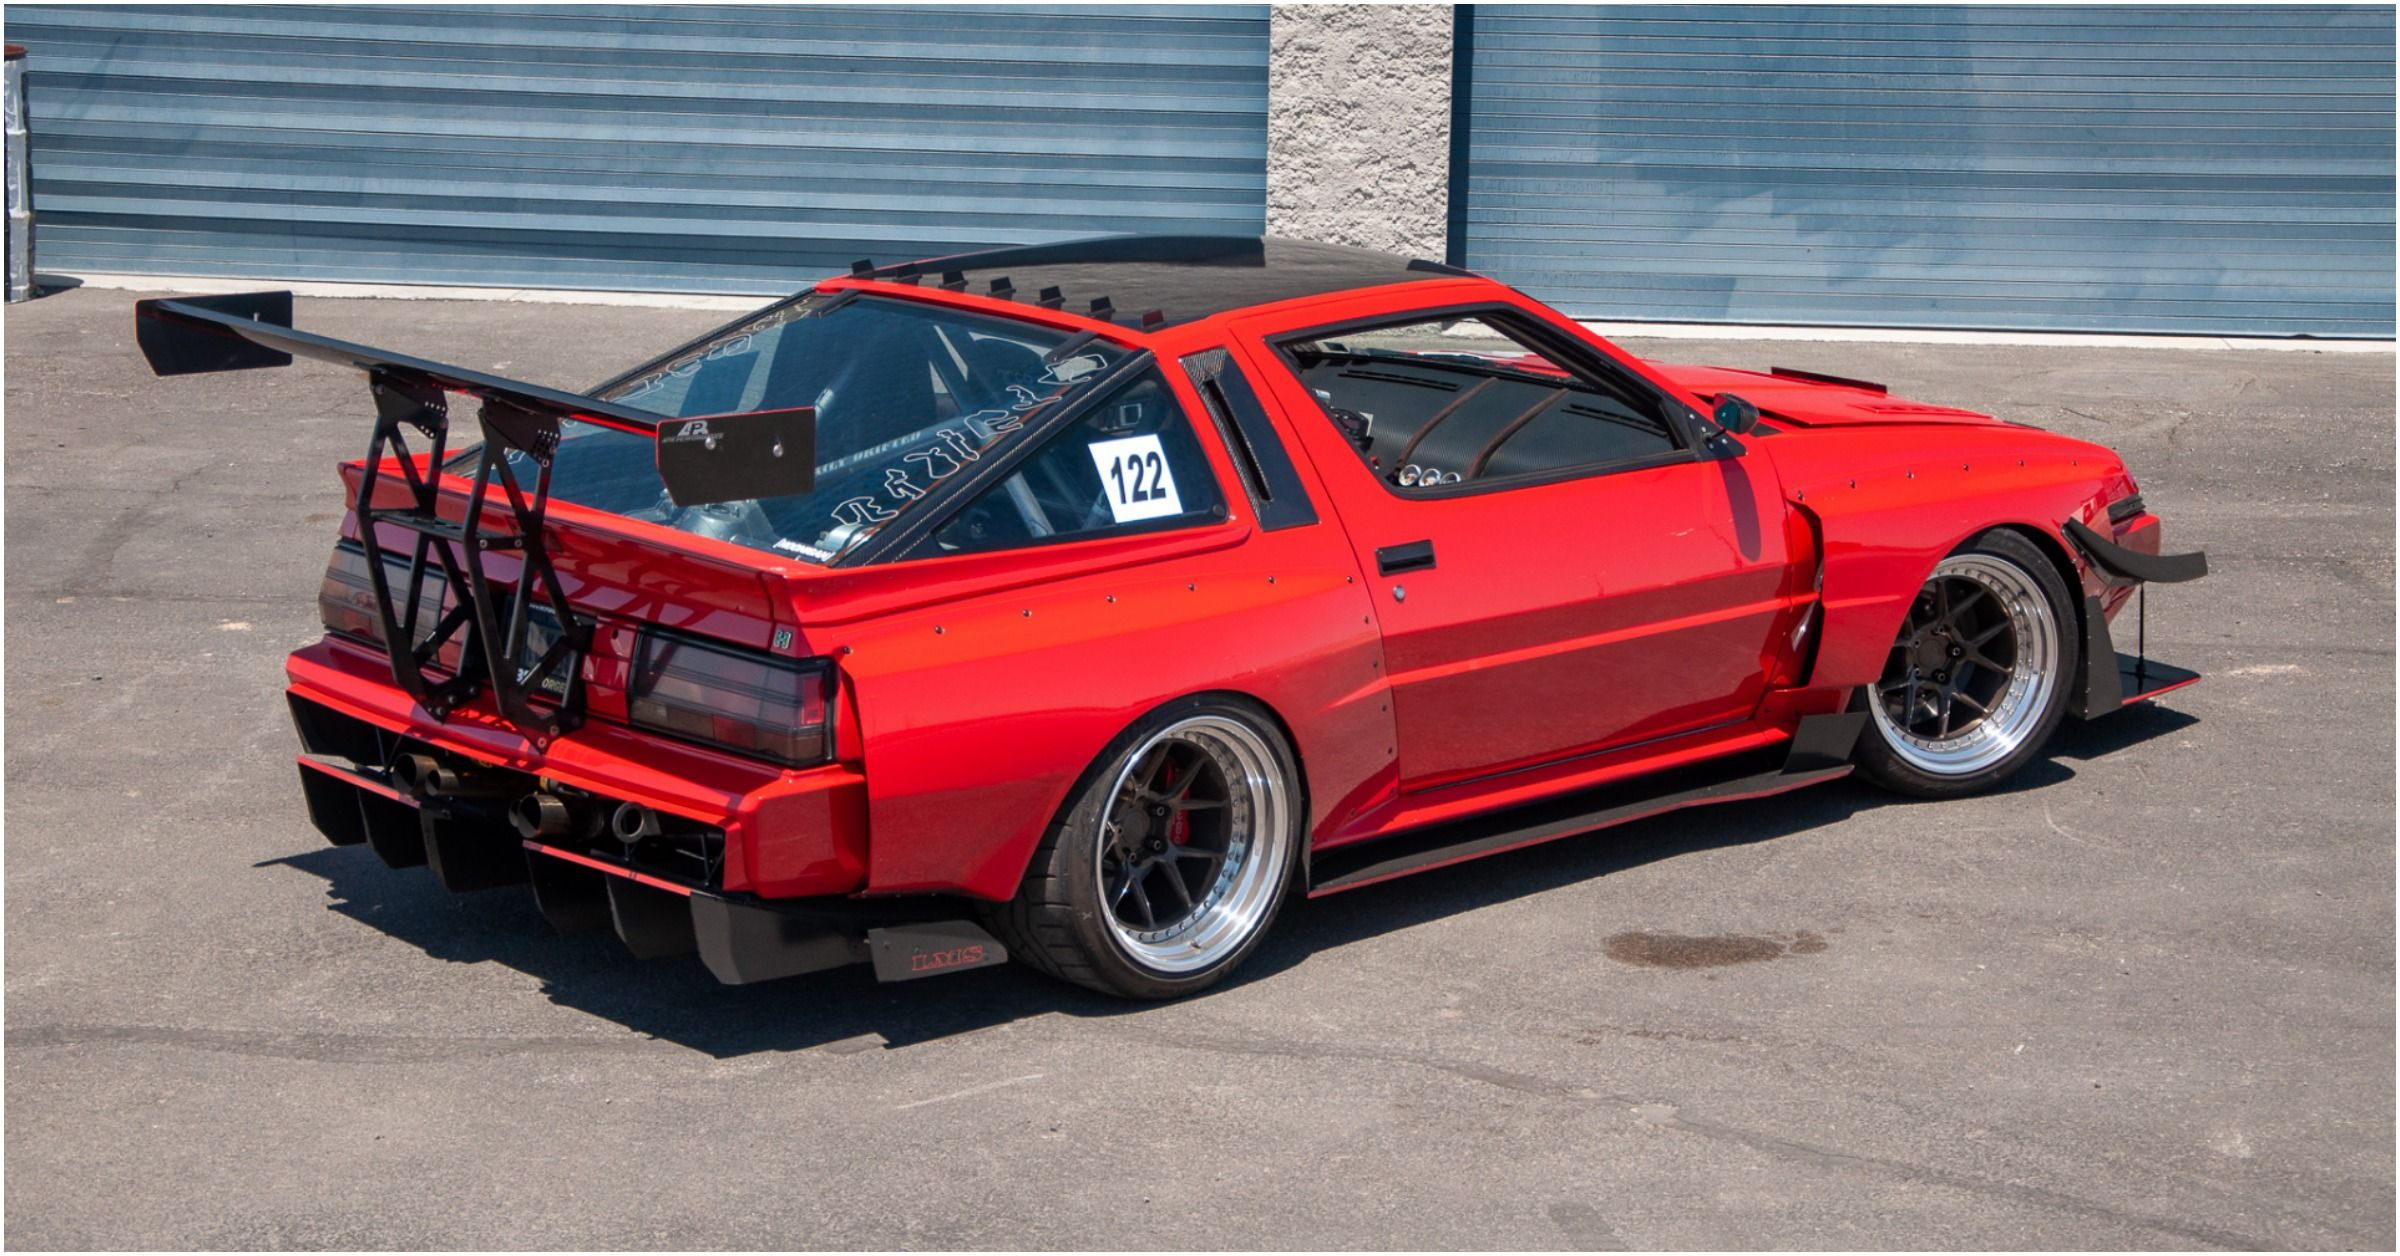headlight: (619, 619, 849, 751), (297, 530, 514, 657)
wheel: (1014, 684, 1295, 992), (1851, 514, 2097, 792)
